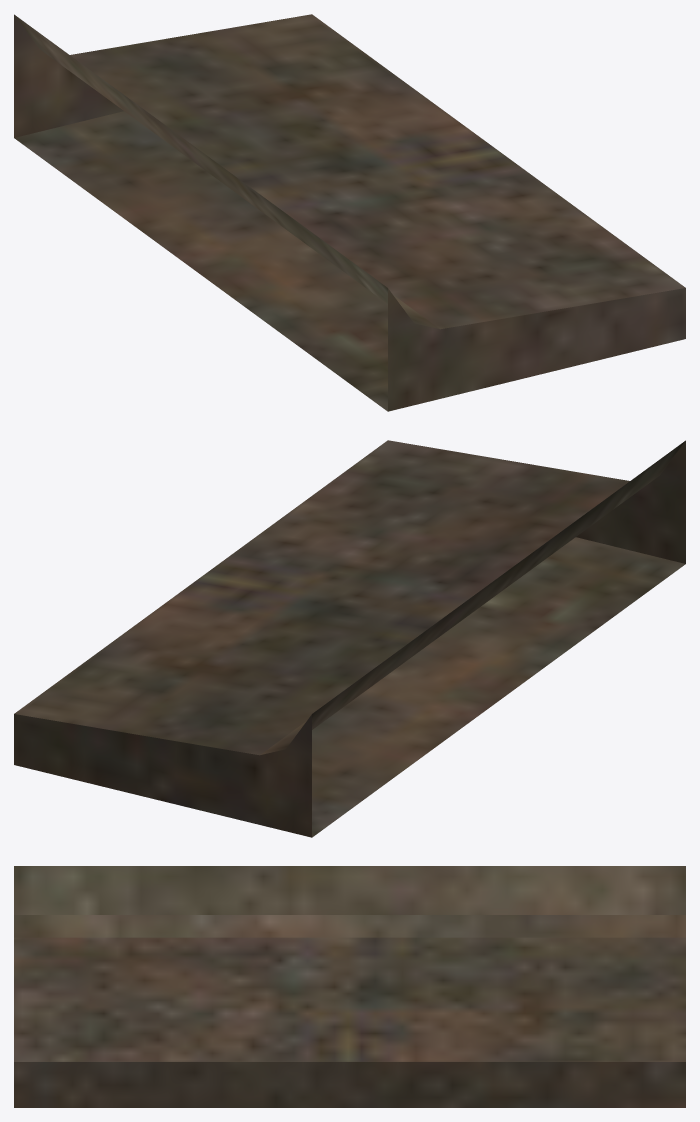
Rendered from WindowTop_S.FBX.
3 views of the same model, one above another, from view 1: azimuth 30°, elevation 25°; view 2: azimuth 150°, elevation 25°; view 3: azimuth 270°, elevation 25° (orthographic). The views are drawn at different scales.
Visible parts, largest first — view 1: WindowTop_S; view 2: WindowTop_S; view 3: WindowTop_S.
Boxes of the visible parts, x1,y1,x2,y2 form: WindowTop_S: [14, 14, 685, 411]; WindowTop_S: [14, 440, 685, 837]; WindowTop_S: [14, 866, 685, 1107].
Size of the model in its own units: 80.93 by 32.1 by 176.
